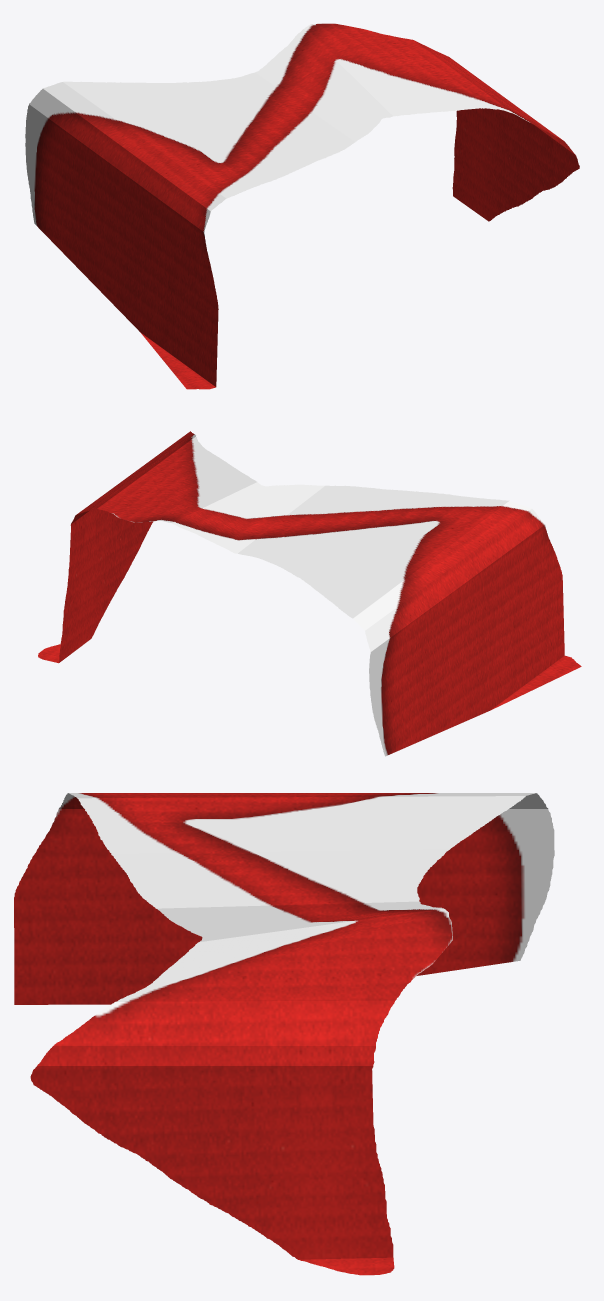
The model's file is In KasurSelimut3.fbx.
3 renders of one model, top to bottom at view 1: azimuth 30°, elevation 25°; view 2: azimuth 150°, elevation 25°; view 3: azimuth 270°, elevation 25°, orthographic. The views are drawn at different scales.
Visible parts, largest first — view 1: In KasurSelimut3; view 2: In KasurSelimut3; view 3: In KasurSelimut3.
Part boxes in pixels (x1,y1,x2,y2): In KasurSelimut3: (25,23,579,389); In KasurSelimut3: (38,431,581,756); In KasurSelimut3: (14,793,554,1275).
Size of the model in its own units: 7.27 by 3.01 by 5.88.
